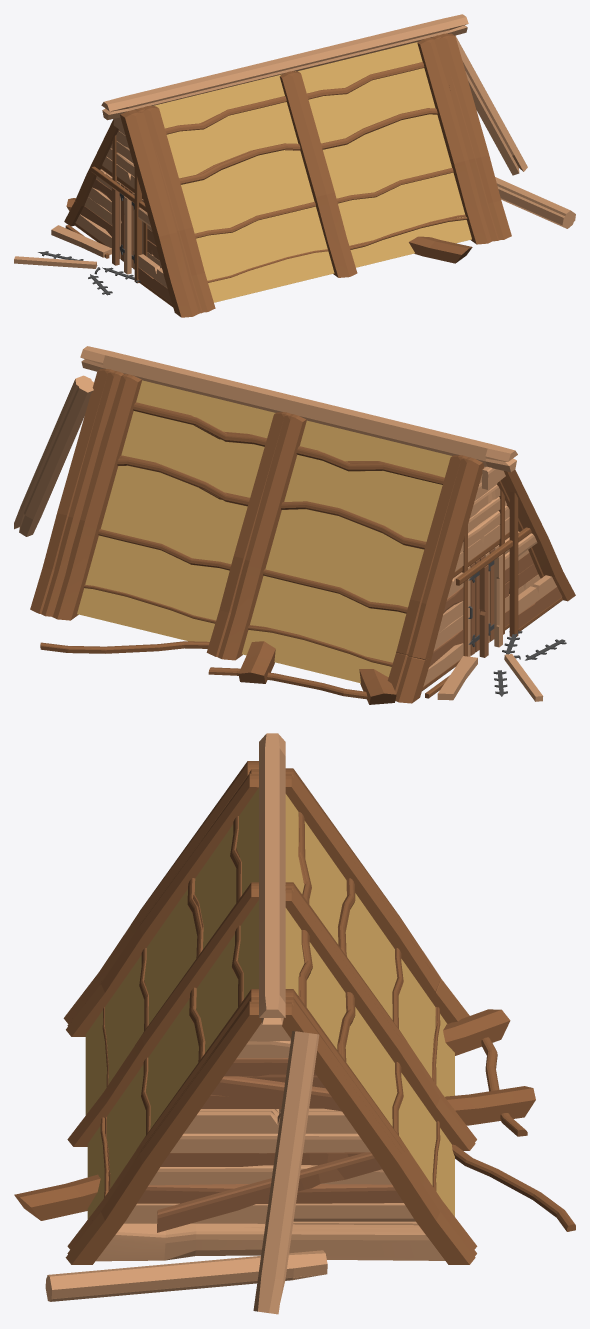
The model's file is HouseTribal.fbx.
3 renders of one model, top to bottom at view 1: azimuth 30°, elevation 25°; view 2: azimuth 150°, elevation 25°; view 3: azimuth 270°, elevation 25°, orthographic. The views are drawn at different scales.
Parts seen in each view (by area): view 1: MaisonNeuve, MaisonSemiDétruite, MaisonDétruite; view 2: MaisonNeuve, MaisonDétruite, MaisonSemiDétruite; view 3: MaisonSemiDétruite, MaisonNeuve, MaisonDétruite.
Boxes of the visible parts, <box> form: MaisonNeuve: <box>64,14,498,313</box>; MaisonSemiDétruite: <box>51,33,527,312</box>; MaisonDétruite: <box>14,37,575,317</box>; MaisonNeuve: <box>41,346,543,703</box>; MaisonDétruite: <box>40,374,575,704</box>; MaisonSemiDétruite: <box>14,369,522,700</box>; MaisonSemiDétruite: <box>14,773,527,1314</box>; MaisonNeuve: <box>67,733,476,1256</box>; MaisonDétruite: <box>45,761,575,1301</box>.
Size of the model in its own units: 13.39 by 8.64 by 4.57.
